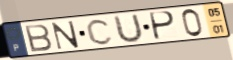0: (181, 7, 205, 38)
B: (23, 23, 55, 54)
C: (85, 18, 115, 47)
N: (51, 20, 81, 51)
P: (149, 10, 177, 42)
U: (113, 12, 145, 45)
